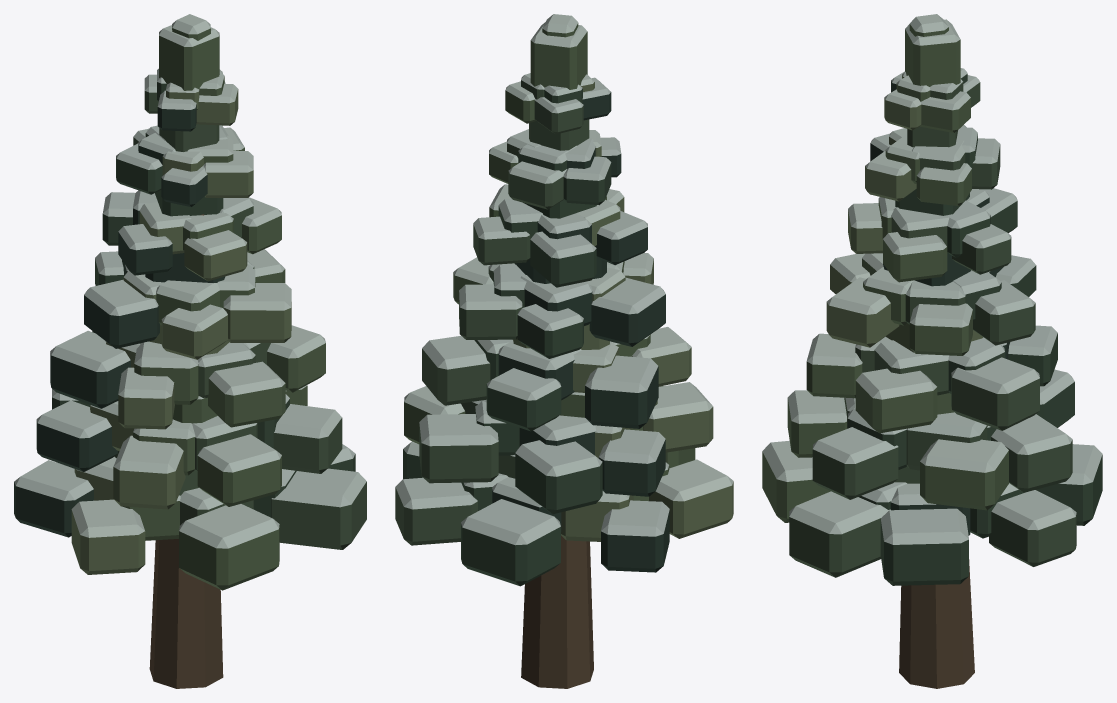
File: pine_ancient_winter_3.glb
The picture shows the model from 3 angles, left to right: view 1: azimuth 30°, elevation 25°; view 2: azimuth 150°, elevation 25°; view 3: azimuth 270°, elevation 25°; orthographic projection.
Visible parts, largest first — view 1: pine_ancient_winter_3; view 2: pine_ancient_winter_3; view 3: pine_ancient_winter_3.
Boxes of the visible parts, box(x1,y1,x2,y2) form: pine_ancient_winter_3: box(14, 14, 366, 688); pine_ancient_winter_3: box(395, 14, 733, 688); pine_ancient_winter_3: box(762, 14, 1102, 688).
Bounding box in the file's own units: 12.42 × 27 × 12.74.
